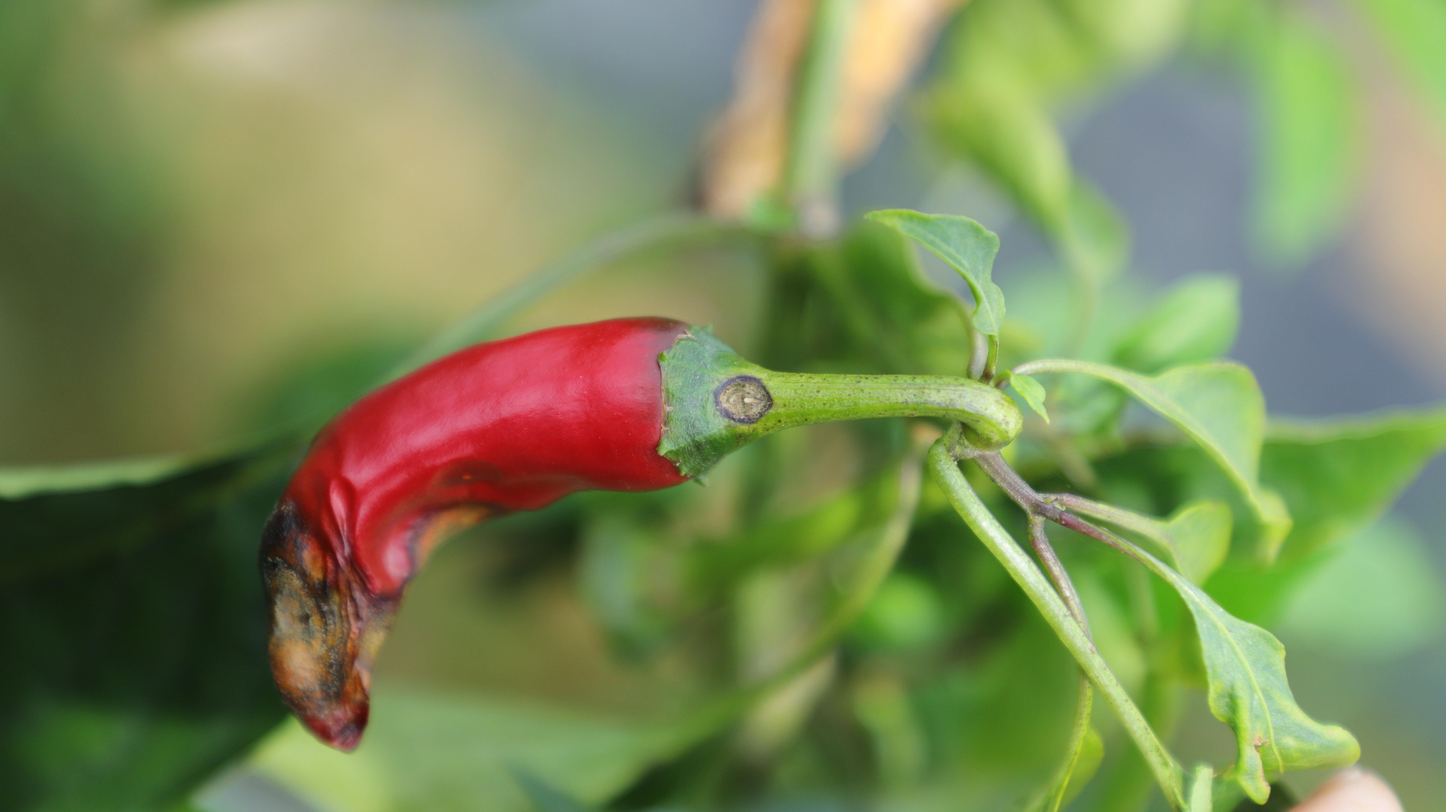Busuk Buah Antraknosa: (254, 311, 776, 755)
